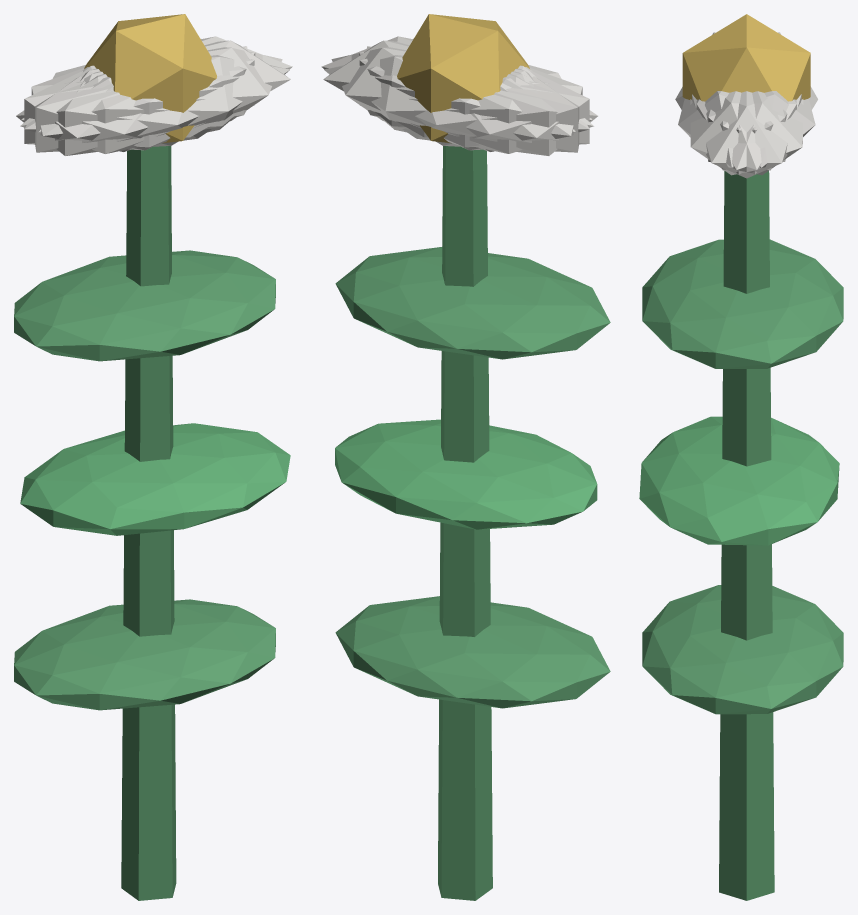
File: malpighia-coccigera.glb
The picture shows the model from 3 angles, left to right: view 1: azimuth 30°, elevation 25°; view 2: azimuth 150°, elevation 25°; view 3: azimuth 270°, elevation 25°; orthographic projection.
Parts seen in each view (by area): view 1: stem, leaf1, leaf2, leaf0, center, petal1, petal6, petal2, petal5, petal7, petal0, petal4 (+2 smaller); view 2: stem, leaf2, leaf0, leaf1, center, petal8, petal3, petal7, petal4, petal2, petal0, petal5 (+2 smaller); view 3: stem, leaf2, leaf1, leaf0, center, petal0, petal5, petal4, petal1, petal8.
Boxes of the visible parts, left/top/right/bottom form: stem: left=121, top=146, right=176, bottom=900; leaf1: left=20, top=423, right=290, bottom=535; leaf2: left=14, top=250, right=275, bottom=361; leaf0: left=14, top=599, right=275, bottom=710; center: left=84, top=14, right=216, bottom=143; petal1: left=20, top=55, right=289, bottom=153; petal6: left=16, top=67, right=211, bottom=155; petal2: left=35, top=46, right=247, bottom=152; petal5: left=38, top=47, right=282, bottom=147; petal7: left=24, top=52, right=255, bottom=150; petal0: left=84, top=40, right=290, bottom=137; petal4: left=21, top=36, right=292, bottom=129; stem: left=438, top=146, right=492, bottom=900; leaf2: left=335, top=247, right=610, bottom=359; leaf0: left=335, top=596, right=610, bottom=708; leaf1: left=335, top=419, right=597, bottom=529; center: left=397, top=14, right=529, bottom=143; petal8: left=324, top=55, right=593, bottom=153; petal3: left=402, top=67, right=597, bottom=155; petal7: left=366, top=46, right=579, bottom=152; petal4: left=331, top=47, right=575, bottom=147; petal2: left=359, top=52, right=589, bottom=150; petal0: left=323, top=40, right=530, bottom=137; petal5: left=321, top=36, right=592, bottom=129; stem: left=719, top=171, right=774, bottom=900; leaf2: left=642, top=239, right=843, bottom=368; leaf1: left=639, top=416, right=839, bottom=545; leaf0: left=642, top=585, right=843, bottom=714; center: left=682, top=14, right=810, bottom=101; petal0: left=692, top=91, right=801, bottom=178; petal5: left=690, top=91, right=796, bottom=175; petal4: left=696, top=91, right=803, bottom=175; petal1: left=678, top=91, right=787, bottom=167; petal8: left=706, top=91, right=815, bottom=167.
Bounding box in the file's own units: 0.1464 × 0.4527 × 0.0976.
